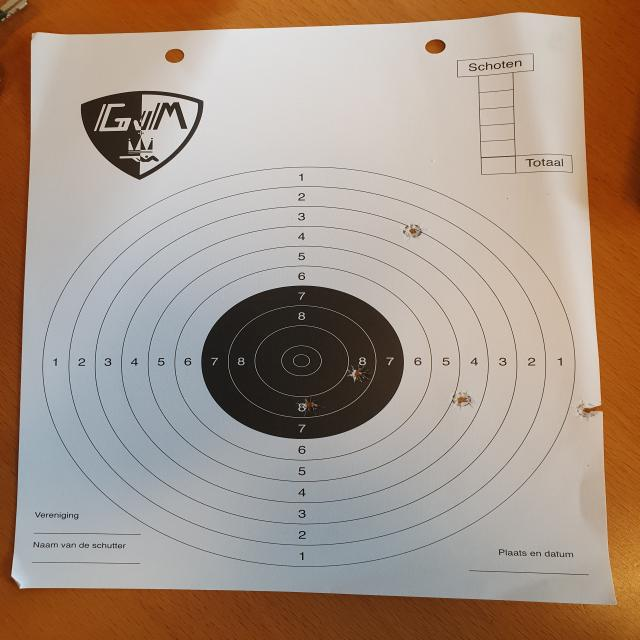0: (572, 398, 604, 422)
3: (400, 221, 428, 242)
5: (450, 389, 476, 409)
8: (344, 363, 372, 384), (298, 396, 322, 416)
Target: (41, 168, 577, 568)
black_contour: (200, 284, 405, 440)
